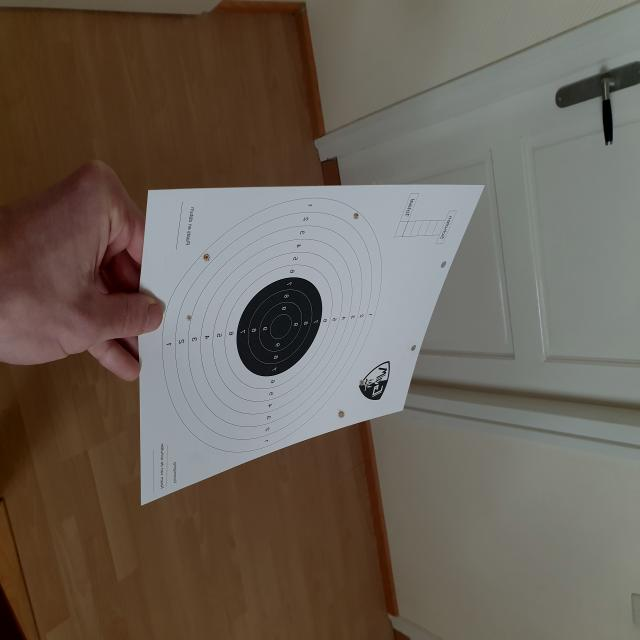0: (337, 409, 346, 419), (359, 379, 365, 386)
1: (202, 251, 210, 263), (353, 211, 360, 220)
3: (186, 314, 192, 323)
Target: (162, 200, 382, 453)
black_contour: (236, 277, 323, 376)
